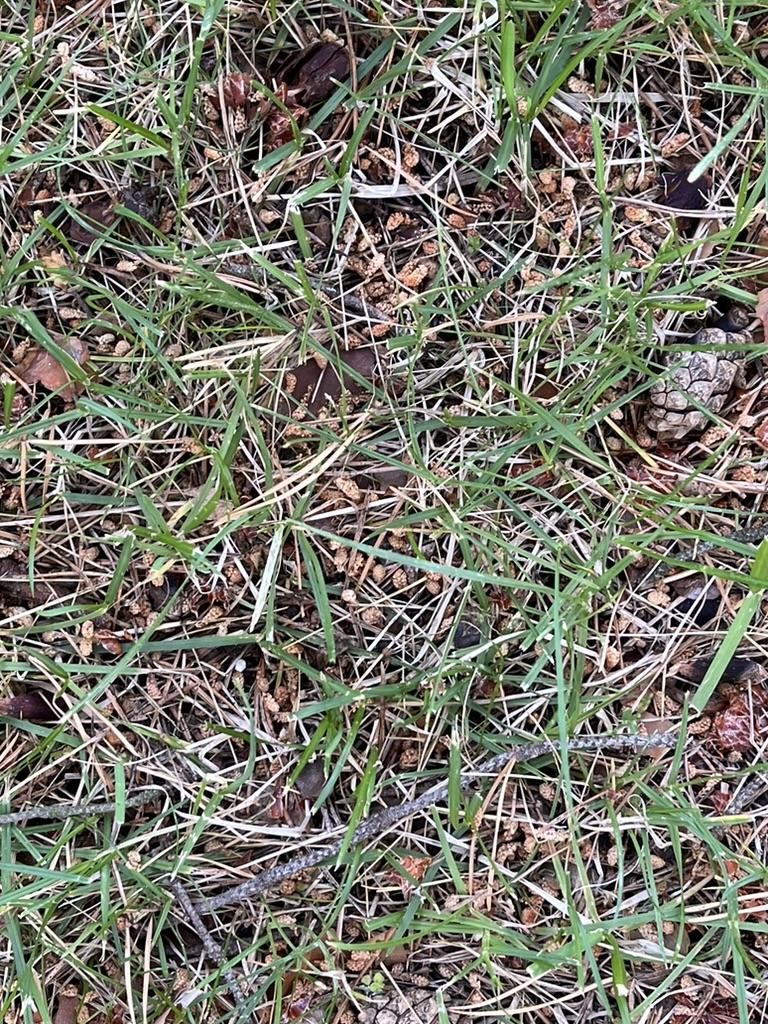pine: (636, 323, 754, 453), (346, 953, 486, 1024)
